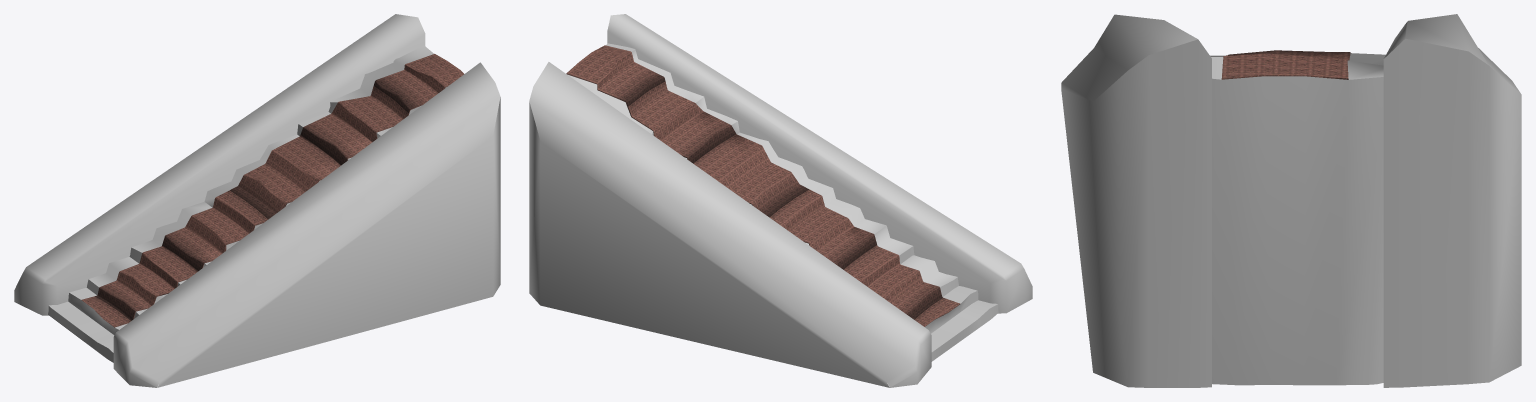
The model's file is Lobby Stairs with Carpet.fbx.
3 renders of one model, left to right at view 1: azimuth 30°, elevation 25°; view 2: azimuth 150°, elevation 25°; view 3: azimuth 270°, elevation 25°, orthographic. The views are drawn at different scales.
Visible parts, largest first — view 1: Plane_001; view 2: Plane_001; view 3: Plane_001.
Part boxes in pixels (x1,y1,x2,y2): Plane_001: (14, 14, 500, 387); Plane_001: (529, 14, 1032, 387); Plane_001: (1061, 14, 1521, 387).
Size of the model in its own units: 1004 by 519 by 621.
